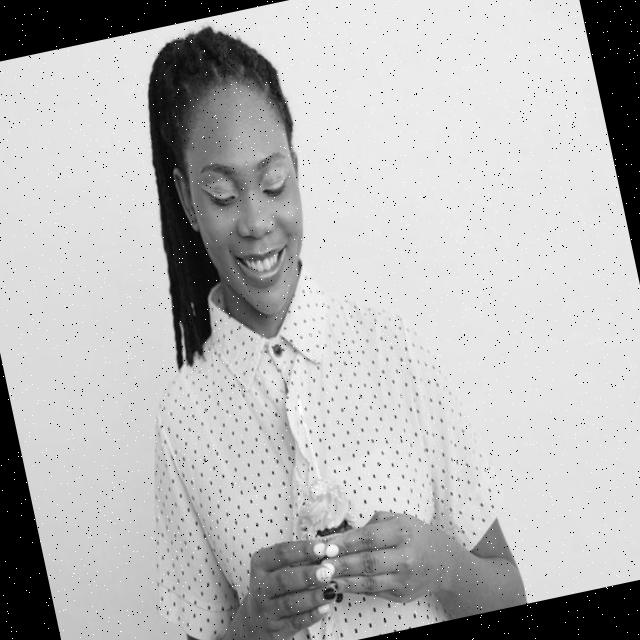Happiness: (166, 78, 330, 334)
